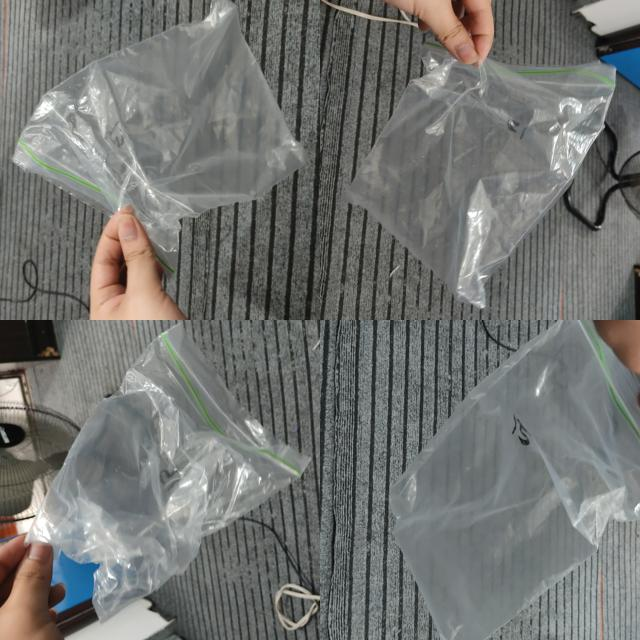Single-layer Plastic: (28, 325, 309, 621), (14, 0, 308, 275), (390, 320, 640, 640), (345, 42, 615, 308)
